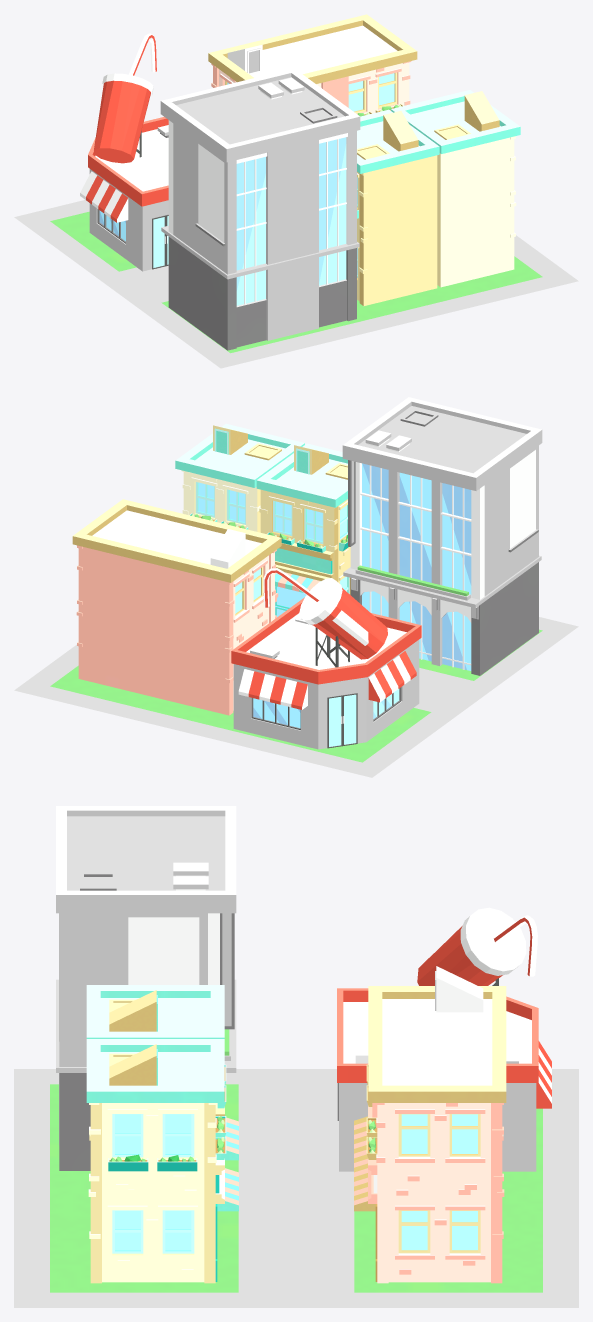
3 views of the same model, one above another, from view 1: azimuth 30°, elevation 25°; view 2: azimuth 150°, elevation 25°; view 3: azimuth 270°, elevation 25° (orthographic). The views are drawn at different scales.
Parts seen in each view (by area): view 1: hotel.006 (1), dwelling&store (2), tile_for_home_2x2.002 (4), snack.004 (2), dwelling&store.001 (2); view 2: hotel.006 (1), dwelling&store.001 (2), snack.004 (2), dwelling&store (2), tile_for_home_2x2.002 (4); view 3: tile_for_home_2x2.002 (4), dwelling&store.001 (2), dwelling&store (2), hotel.006 (1), snack.004 (2).
Part boxes in pixels (box(x1,y1,x2,y2)): hotel.006 (1): box(160, 68, 360, 350); dwelling&store (2): box(357, 90, 520, 305); tile_for_home_2x2.002 (4): box(14, 200, 578, 368); snack.004 (2): box(80, 33, 168, 271); dwelling&store.001 (2): box(208, 14, 417, 116); hotel.006 (1): box(342, 397, 542, 675); dwelling&store.001 (2): box(72, 499, 281, 715); snack.004 (2): box(231, 568, 421, 749); dwelling&store (2): box(175, 423, 350, 617); tile_for_home_2x2.002 (4): box(14, 617, 578, 777); tile_for_home_2x2.002 (4): box(14, 1069, 578, 1307); dwelling&store.001 (2): box(354, 966, 506, 1283); dwelling&store (2): box(86, 985, 238, 1283); hotel.006 (1): box(56, 806, 236, 1170); snack.004 (2): box(337, 907, 551, 1171).
Bounding box in the file's own units: 16 × 8.79 × 16.
1 material, 1 textured.
